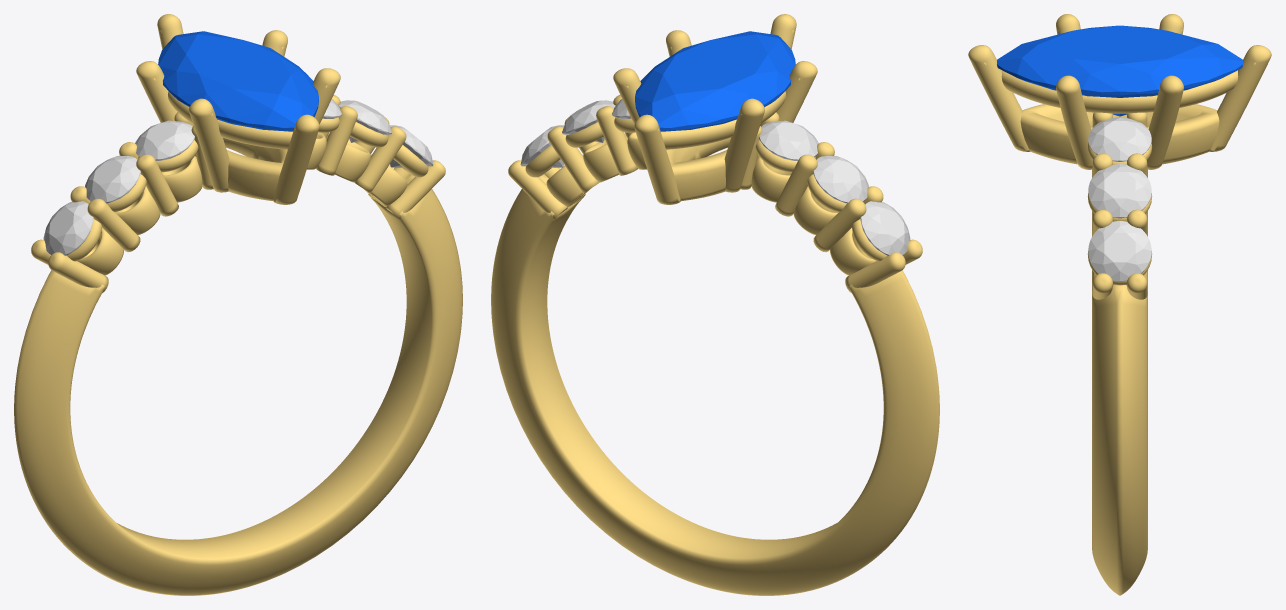
Rendered from bluesapphire-marquise-yellowgold-6prong-knifeedge-7stone.glb.
3 views of the same model, side by side, from view 1: azimuth 30°, elevation 25°; view 2: azimuth 150°, elevation 25°; view 3: azimuth 270°, elevation 25° (orthographic).
Parts seen in each view (by area): view 1: metal.001, stone, dia, dia.003, dia.004, dia.006, dia.005; view 2: metal.001, stone, dia, dia.003, dia.004, dia.006, dia.005; view 3: metal.001, stone, dia.005, dia.006, dia.007.
Boxes of the visible parts, box(x1,y1,x2,y2) form: metal.001: box(14, 14, 462, 595); stone: box(158, 31, 318, 131); dia: box(43, 201, 93, 255); dia.003: box(85, 155, 140, 203); dia.004: box(135, 120, 194, 160); dia.006: box(338, 100, 391, 142); dia.005: box(389, 125, 433, 167); metal.001: box(491, 14, 939, 595); stone: box(635, 31, 795, 131); dia: box(860, 201, 910, 255); dia.003: box(813, 155, 868, 203); dia.004: box(759, 120, 818, 160); dia.006: box(562, 100, 615, 142); dia.005: box(520, 125, 564, 167); metal.001: box(968, 14, 1271, 595); stone: box(997, 25, 1242, 116); dia.005: box(1088, 221, 1151, 281); dia.006: box(1088, 164, 1151, 218); dia.007: box(1088, 117, 1151, 161).
Bounding box in the file's own units: 20.5 × 22.93 × 11.96.
